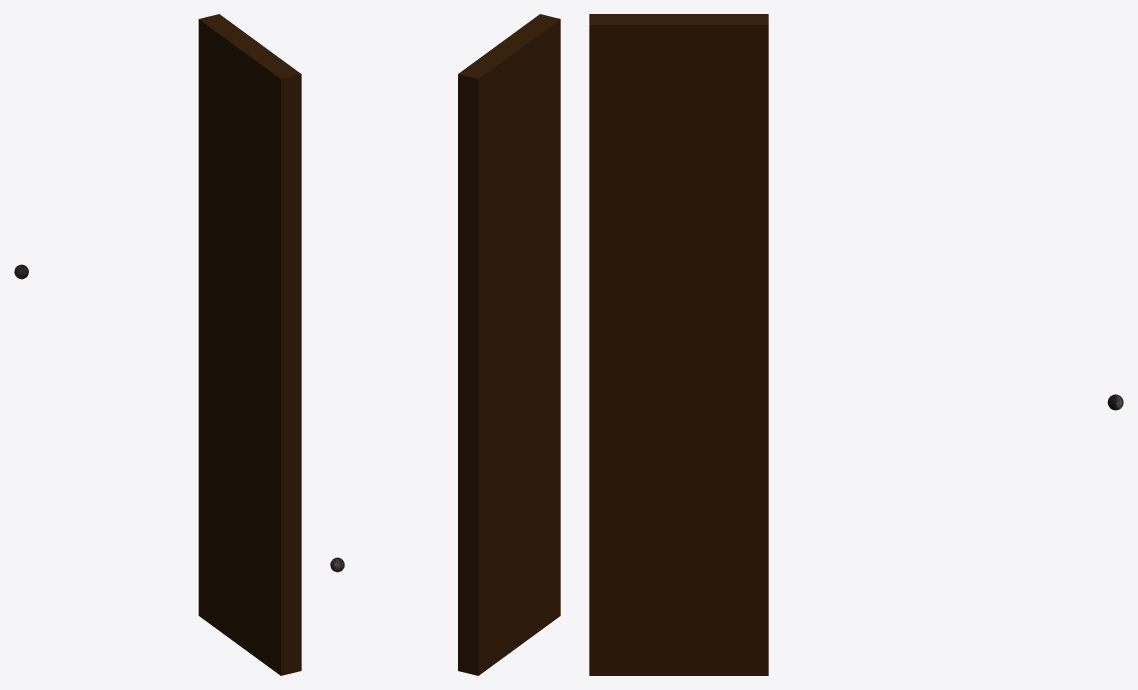
File: WardrobeDoor2.0.fbx
3 views of the same model, side by side, from view 1: azimuth 30°, elevation 25°; view 2: azimuth 150°, elevation 25°; view 3: azimuth 270°, elevation 25° (orthographic). The views are drawn at different scales.
Visible parts, largest first — view 1: Cube; view 2: Cube; view 3: Cube.
Part boxes in pixels (bbox=[...]): Cube: bbox=[198, 14, 301, 675]; Cube: bbox=[458, 14, 560, 675]; Cube: bbox=[589, 14, 768, 675].
Bounding box in the file's own units: 25.33 × 321 × 238.
Materials: 2 (1 with a texture image).
